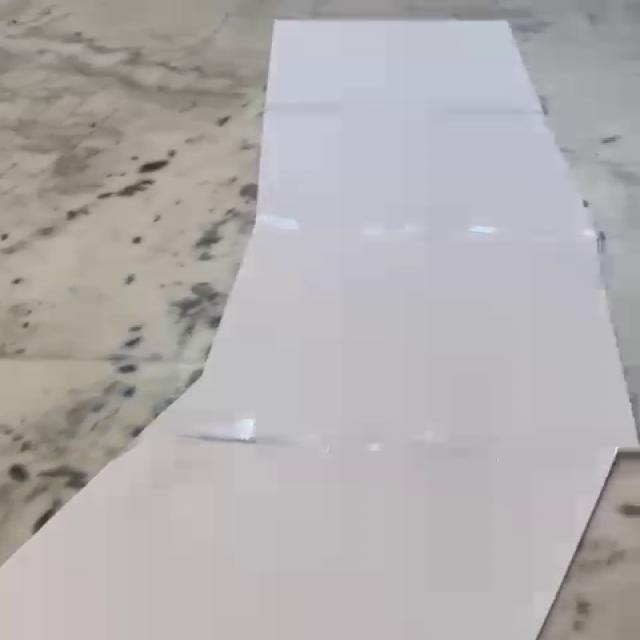road: (0, 18, 640, 640)
